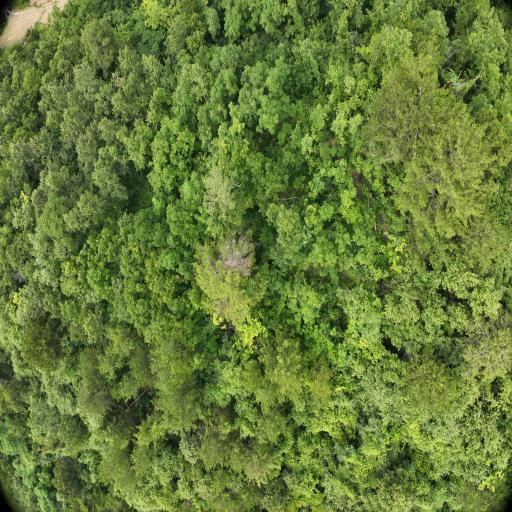dead-tree: (223, 252, 255, 273)
